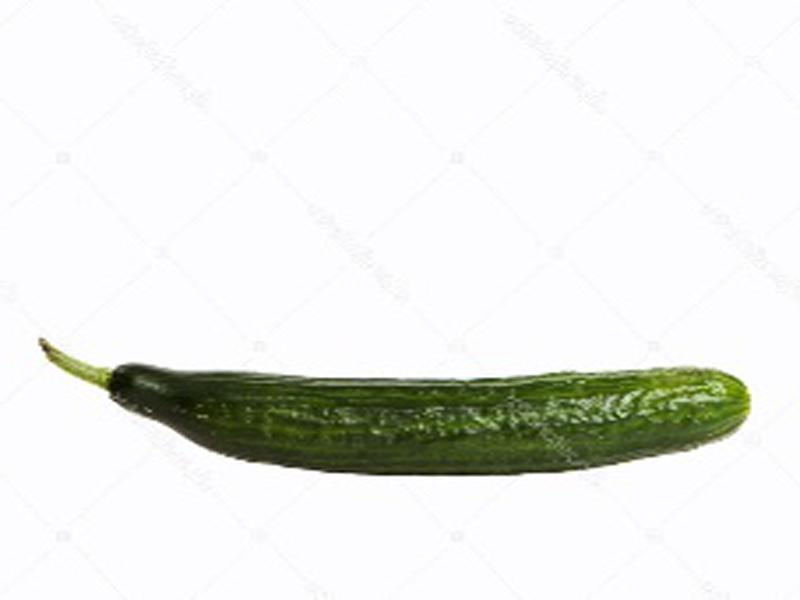Cucumber: (34, 338, 746, 473)
